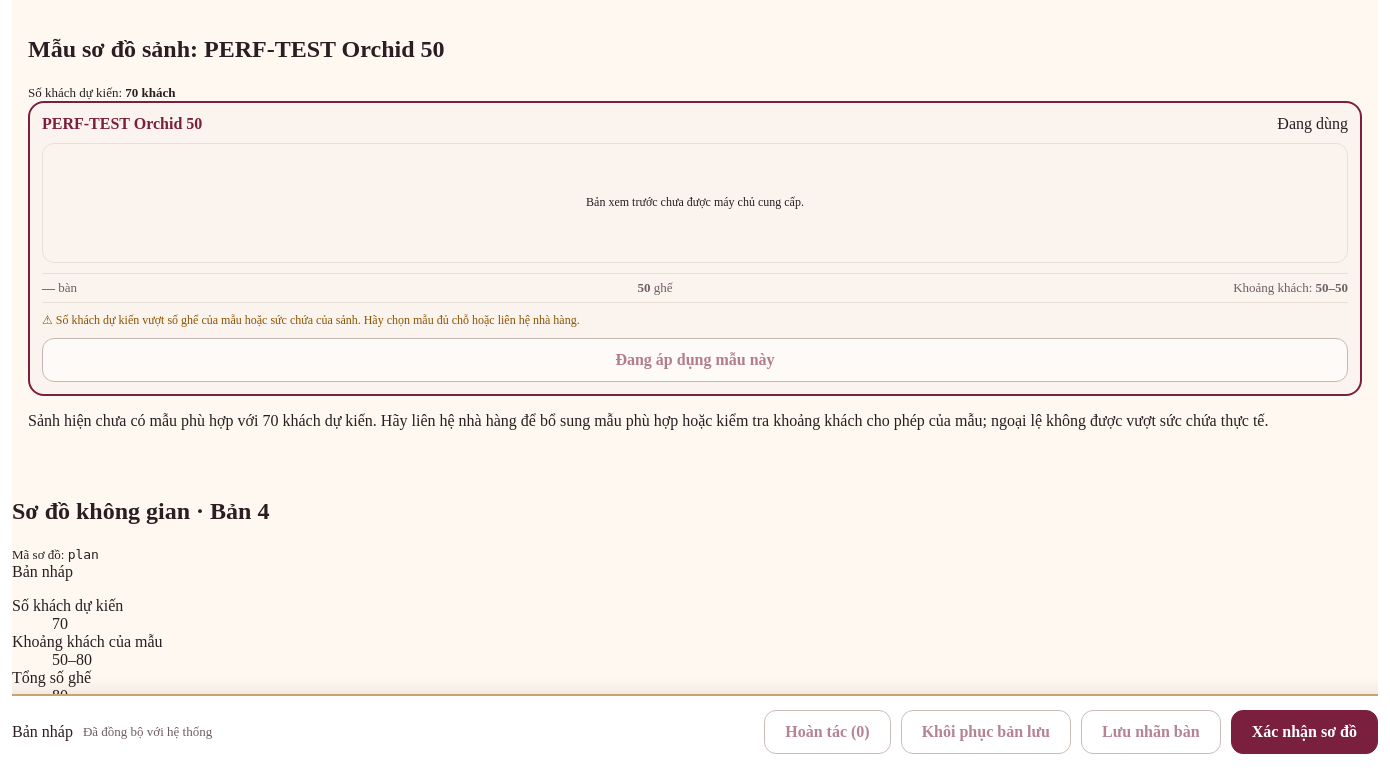
it: seating confirmation capacity › explains a server capacity rejection when the hall constraint changes after loading
This screenshot has width=1390, height=768.
Step 1. Click the button "Xác nhận sơ đồ" → (1304, 732), box [1231,710,1378,754]
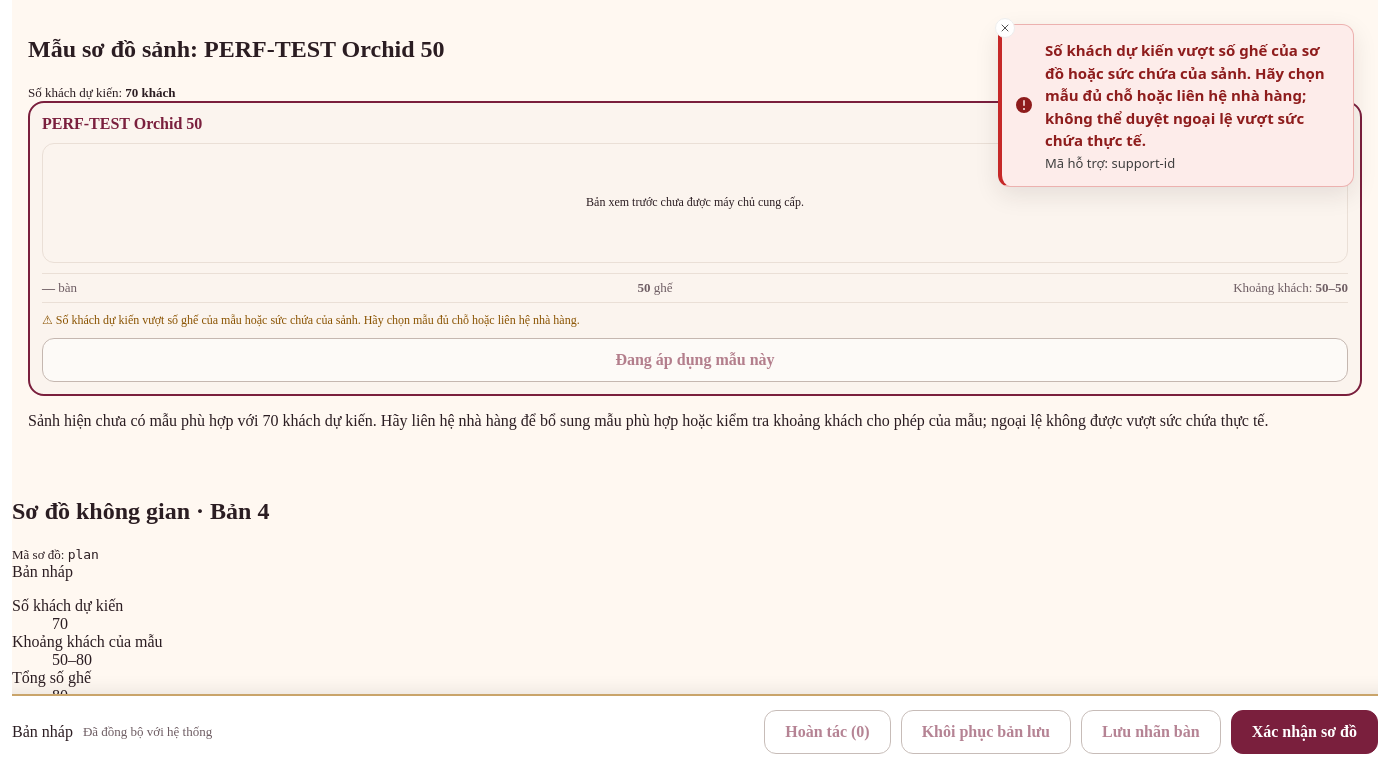
Expected: the text "Số khách dự kiến vượt số ghế của sơ đồ hoặc sức chứa của sảnh" is shown, [1045,40,1325,150]
Expected: the text "Mã hỗ trợ: support-id" is shown, [1045,154,1175,172]
